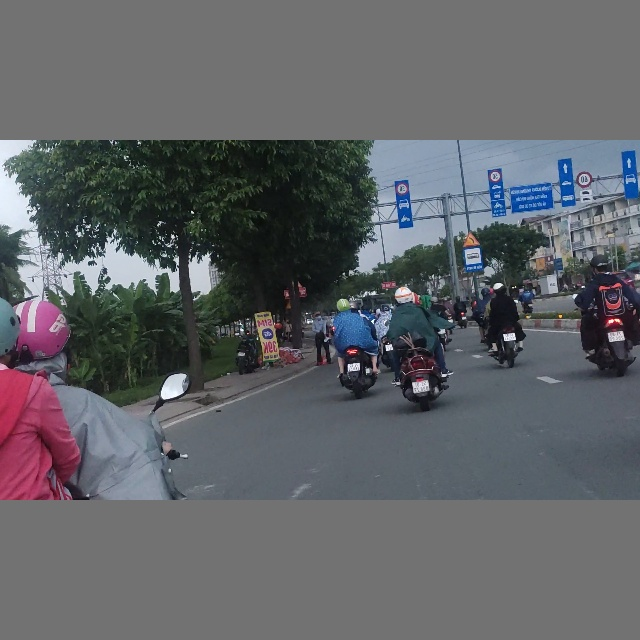I.434a: (463, 247, 484, 272)
P.127*50: (396, 182, 408, 195), (489, 170, 501, 183)
P.127*60: (576, 171, 592, 187)
S.505a*Xe tai va cong: (580, 189, 593, 203)
W.201b: (462, 232, 481, 247)
